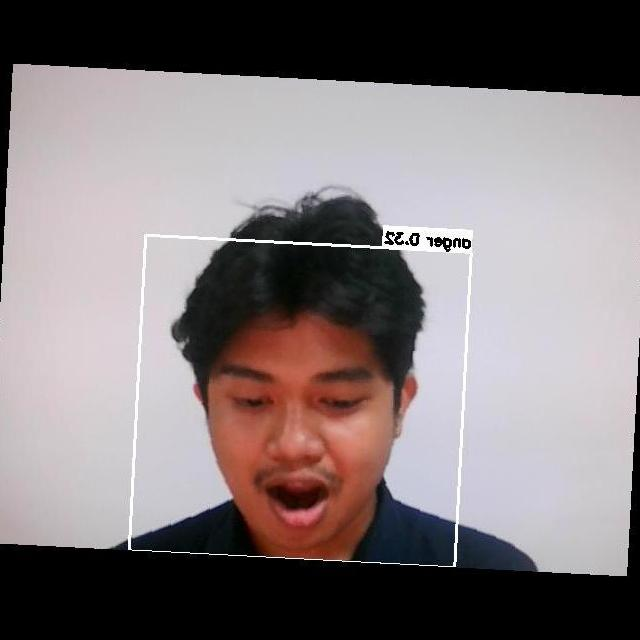Surprised: (209, 341, 395, 547)
